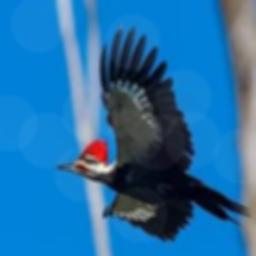Woodpecker: (57, 25, 252, 241)
